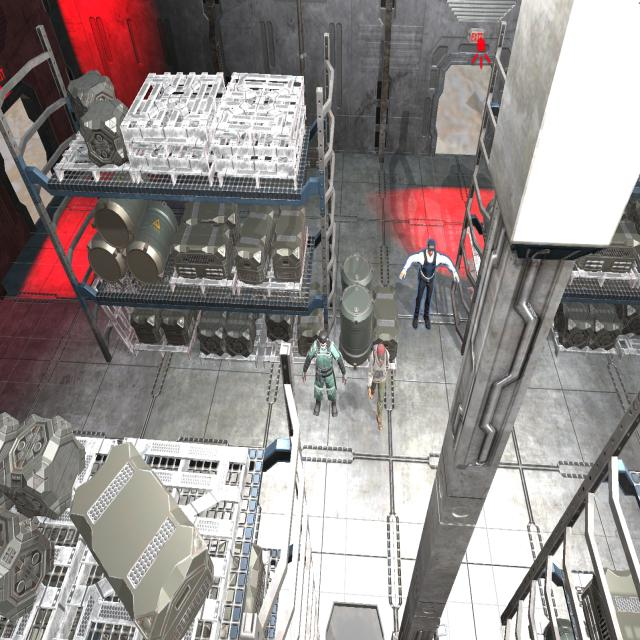thiefs: (366, 342, 390, 432)
